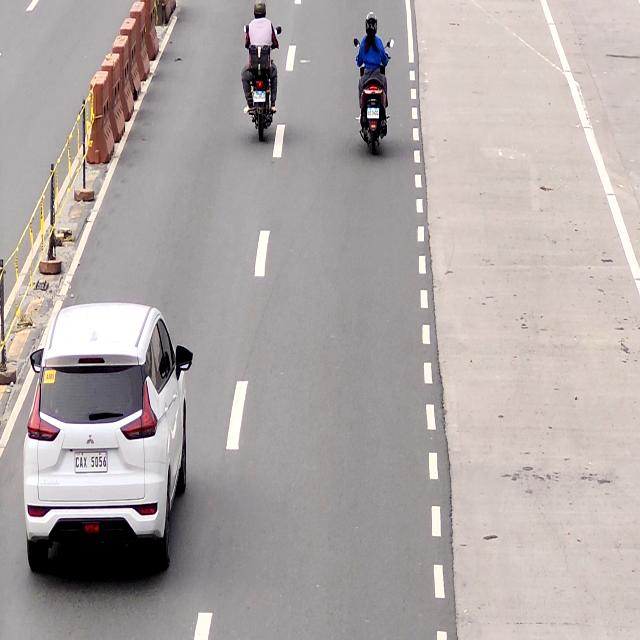Car: (26, 304, 187, 567)
License-Plate: (73, 451, 108, 474), (251, 89, 267, 102), (367, 108, 382, 121)
Motorcycle: (352, 11, 396, 162), (240, 1, 280, 141)
